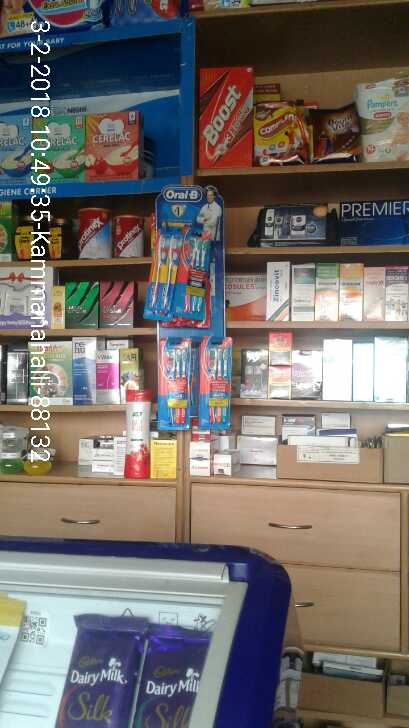oralb: (201, 340, 235, 430), (159, 342, 195, 425), (148, 227, 179, 323), (184, 224, 211, 325)
